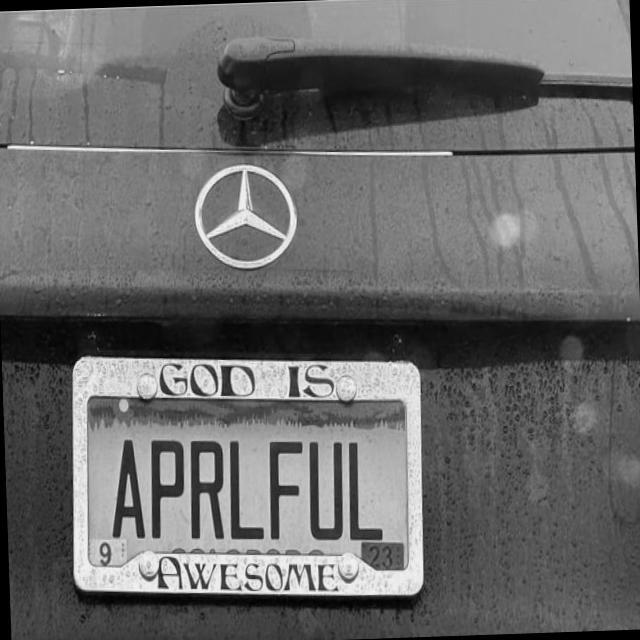LicensePlate: (70, 357, 424, 597)
